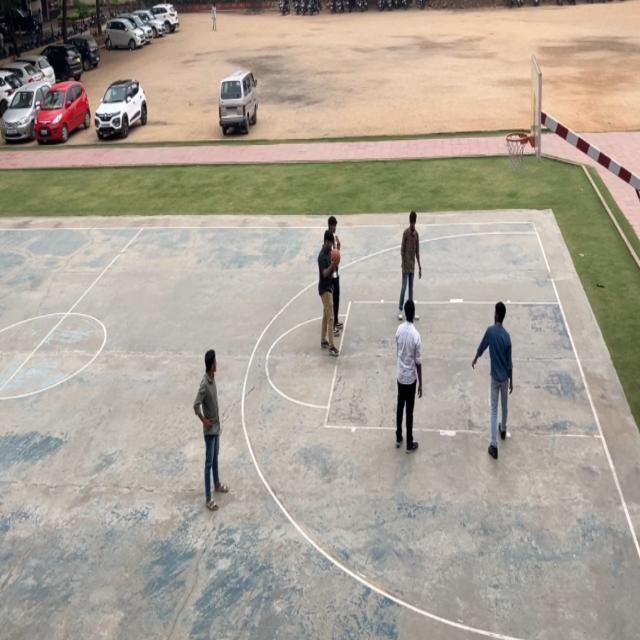basketball: (330, 246, 341, 268)
hoop: (506, 130, 528, 174)
